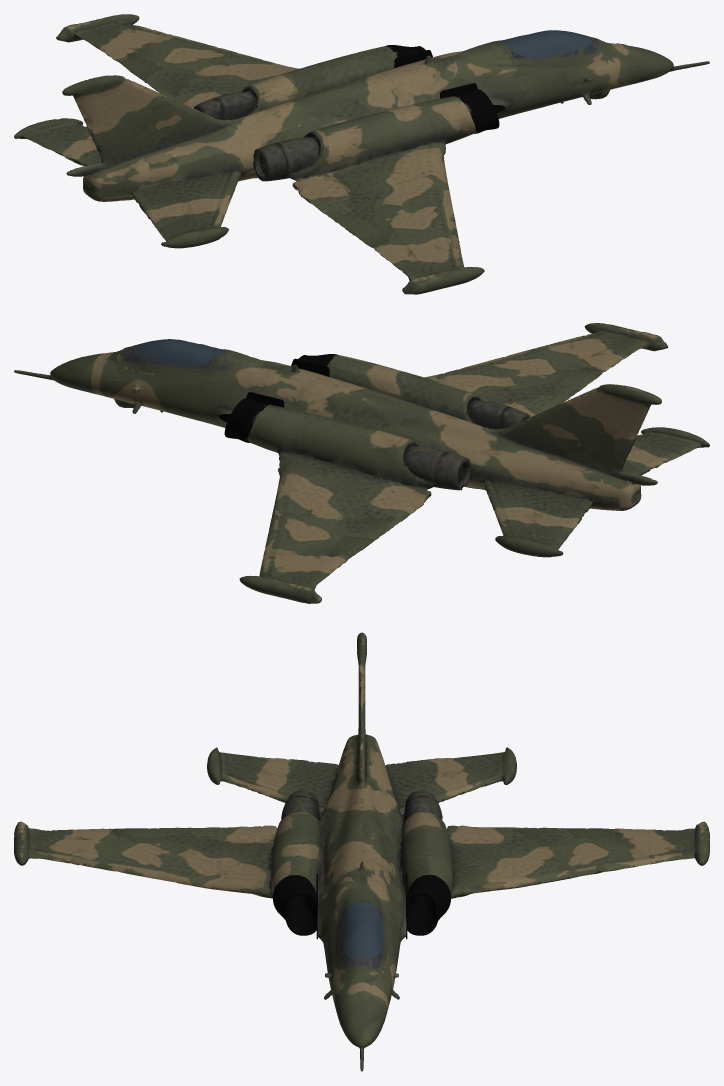
Rendered from fh_hangar_attacker_1.glb.
3 renders of one model, top to bottom at view 1: azimuth 30°, elevation 25°; view 2: azimuth 150°, elevation 25°; view 3: azimuth 270°, elevation 25°, orthographic.
Visible parts, largest first — view 1: fh_hangar_attacker_1, flap_r, flap_l, slat_r, slat_l; view 2: fh_hangar_attacker_1, flap_l, flap_r, slat_l, slat_r; view 3: fh_hangar_attacker_1, flap_r, flap_l, slat_r, slat_l.
Part boxes in pixels (x1,y1,x2,y2): fh_hangar_attacker_1: (14,14,709,294); flap_r: (293,170,386,243); flap_l: (126,61,224,108); slat_r: (427,176,462,259); slat_l: (140,28,292,69); fh_hangar_attacker_1: (14,323,709,603); flap_l: (337,479,430,552); flap_r: (500,370,597,416); slat_l: (261,486,296,567); slat_r: (431,337,584,378); fh_hangar_attacker_1: (14,632,709,1071); flap_r: (126,825,273,846); flap_l: (450,825,597,846); slat_r: (52,853,214,889); slat_l: (509,853,671,888).
Size of the model in its own units: 0.9988 by 0.2109 by 0.944.
3 materials, 1 textured.
